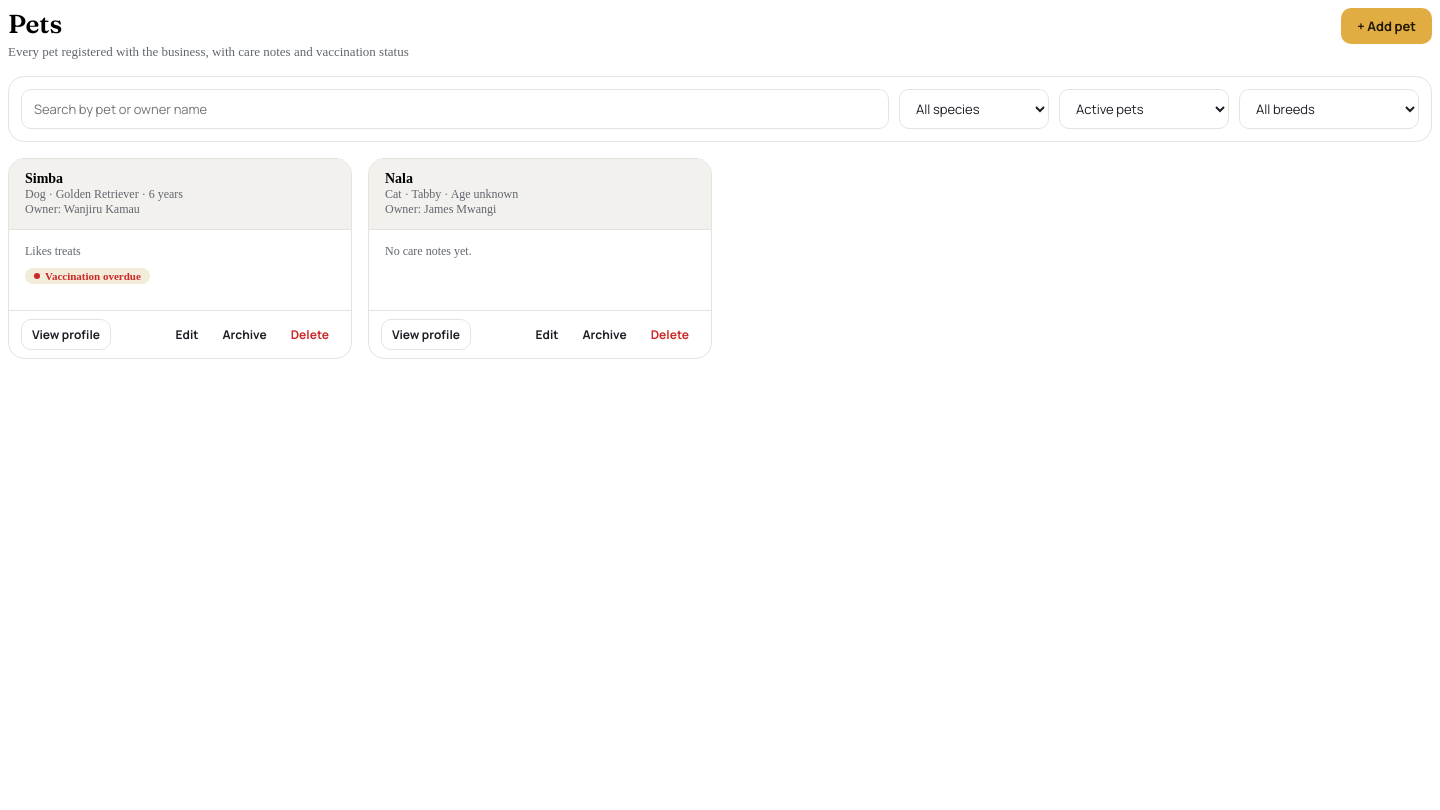
Test: PetsPage › does not delete when the history check itself fails
Expected: the text "Simba" is shown, [25,171,63,186]
Click the button with aria-label "Delete Simba". click: (310, 334)
box: [281,320,339,349]
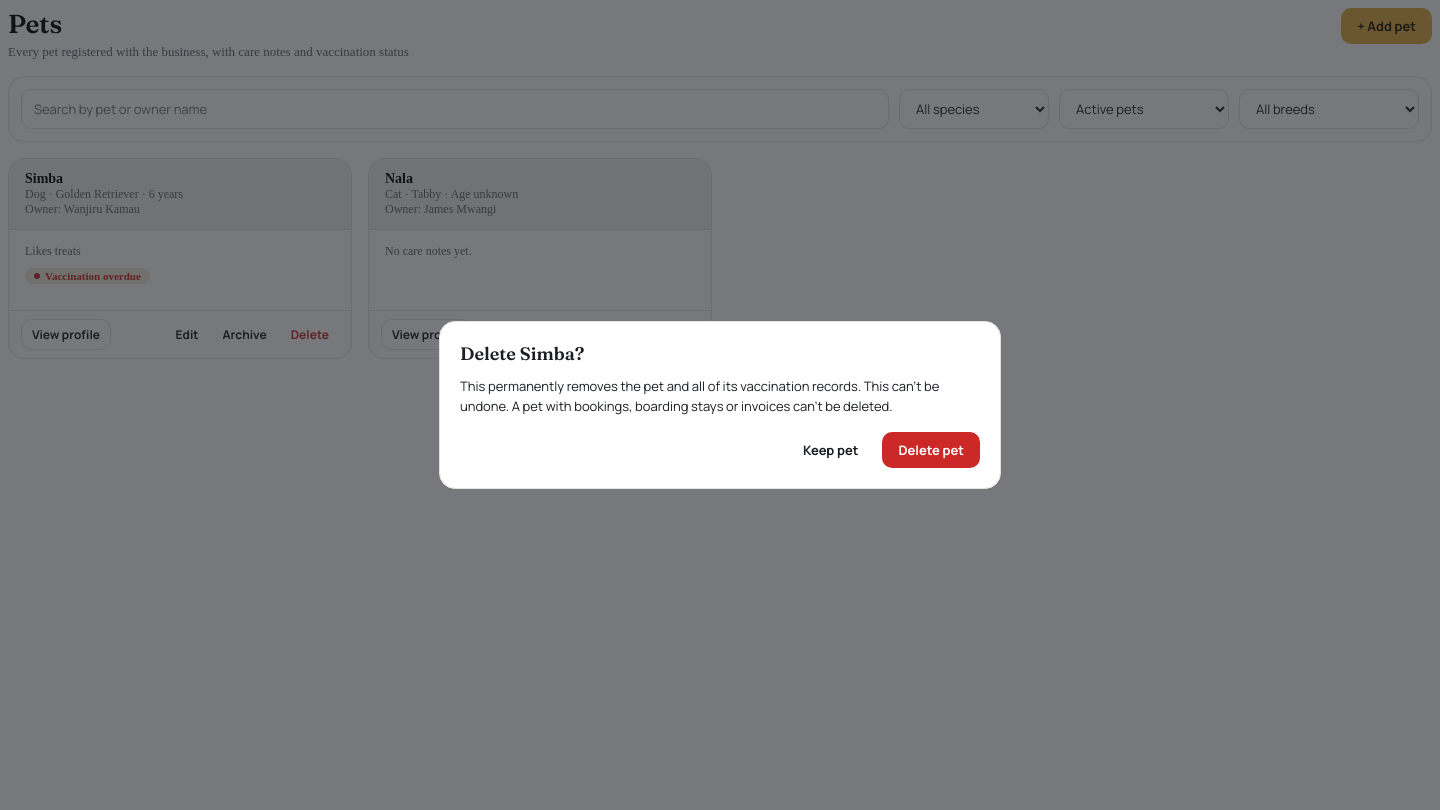
Click the button "Delete pet". click: (931, 450)
box: [882,432,980,468]
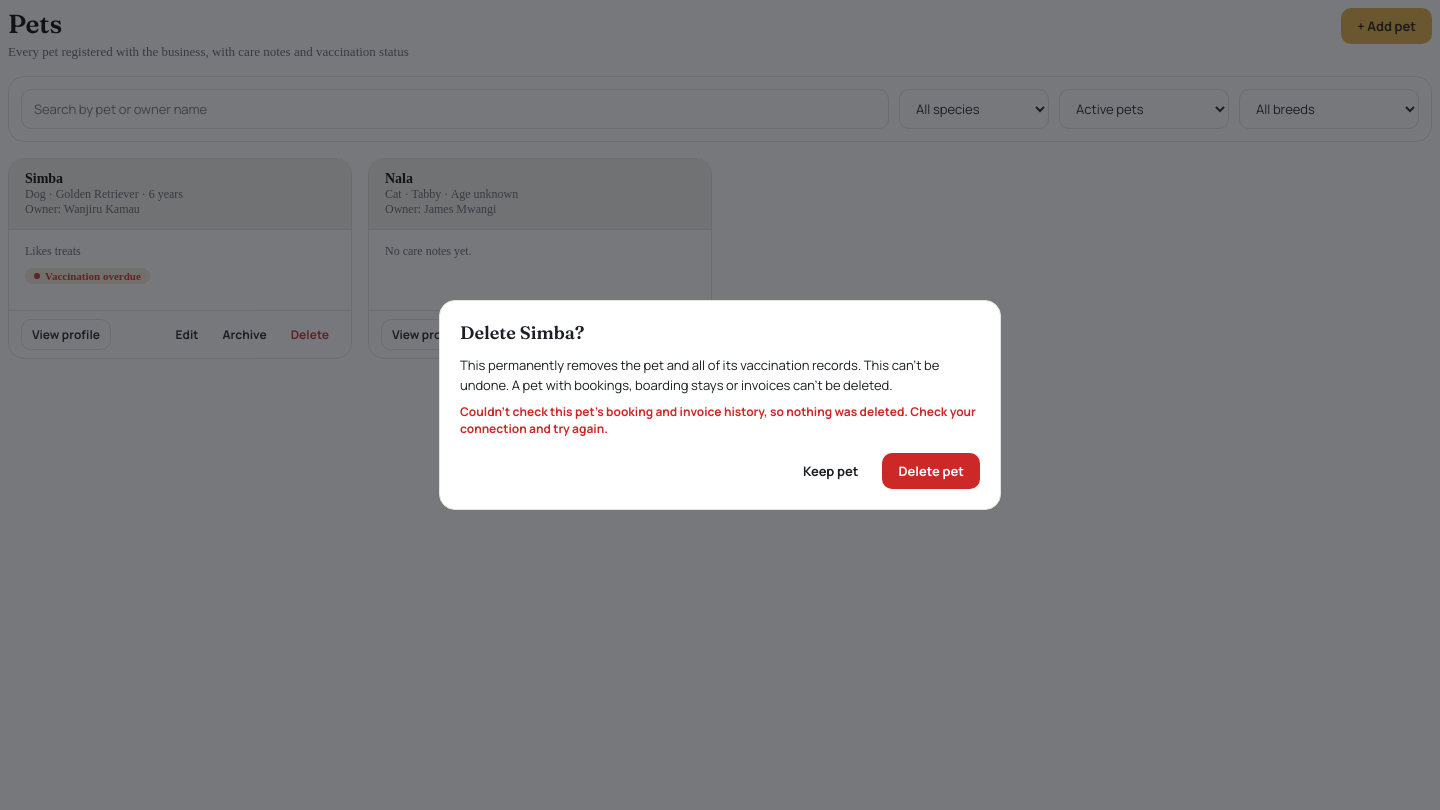
Result: the text "Couldn't check this pet's booking and invoice history, so nothing was deleted" is shown at [460,403,976,437]
